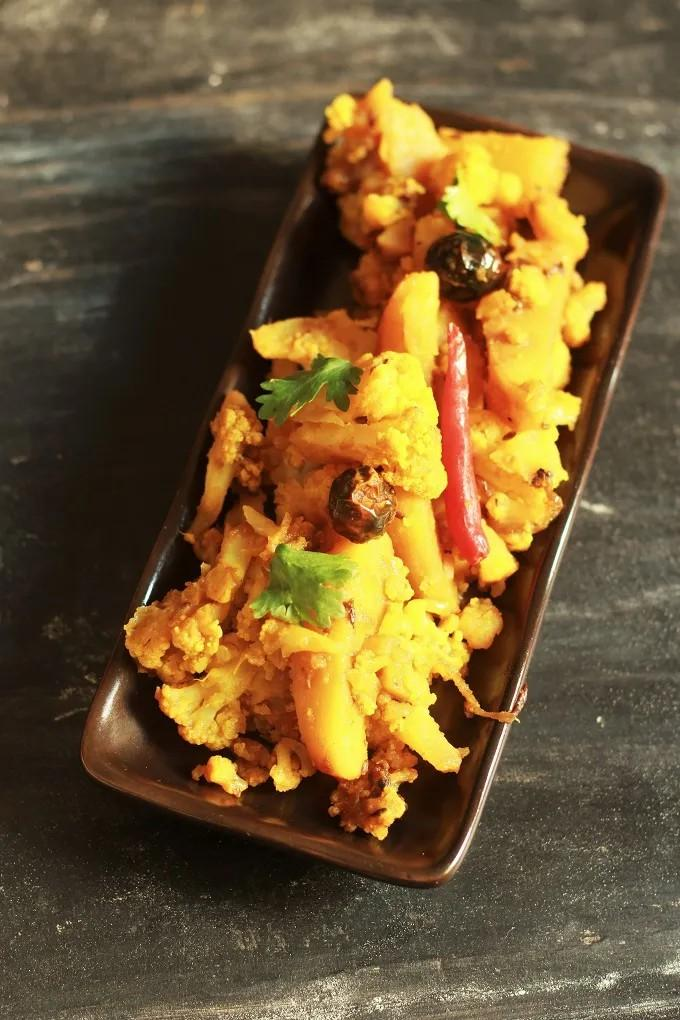AlooGobi: (124, 80, 613, 840)
